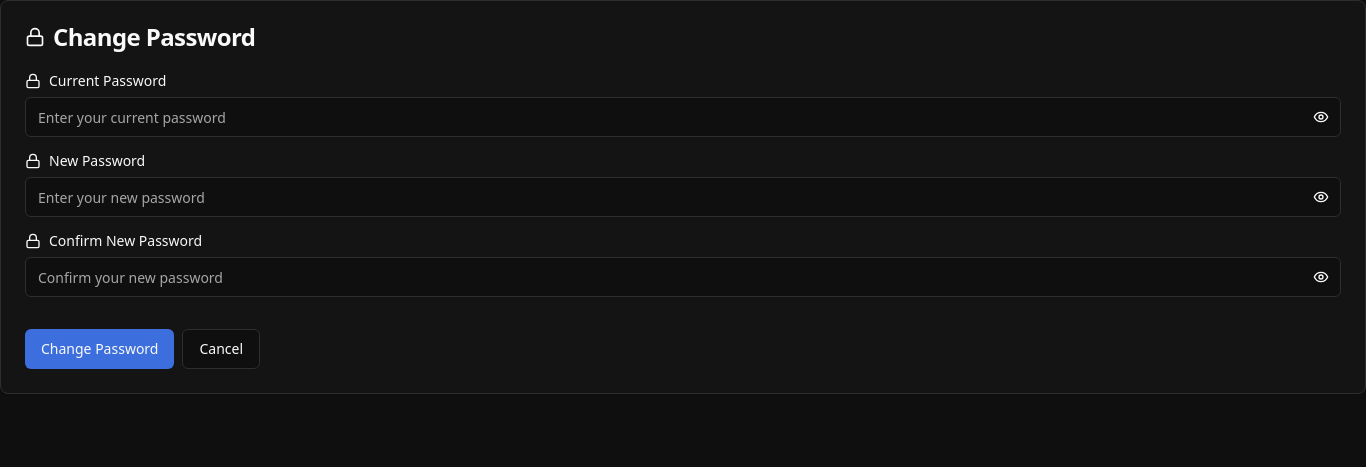
Test case: PasswordChangeForm › should validate new password length
The image size is (1366, 467).
Type "currentpass" into the password field labelled "Current Password" at (683, 117), box x1=25 y1=97 x2=1341 y2=137
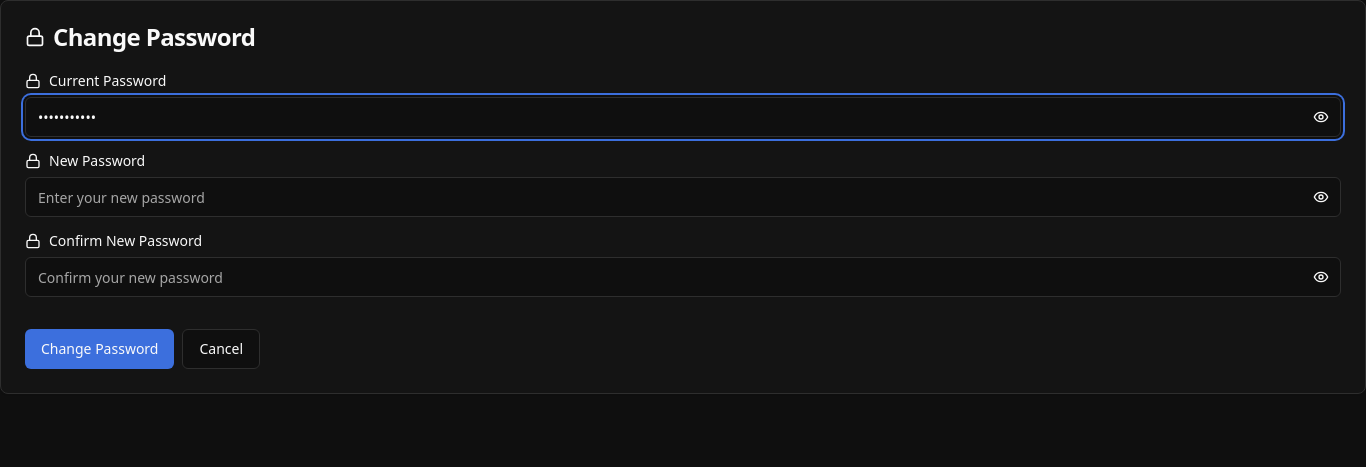
Type "short" into the password field labelled "New Password" at (683, 197), box x1=25 y1=177 x2=1341 y2=217
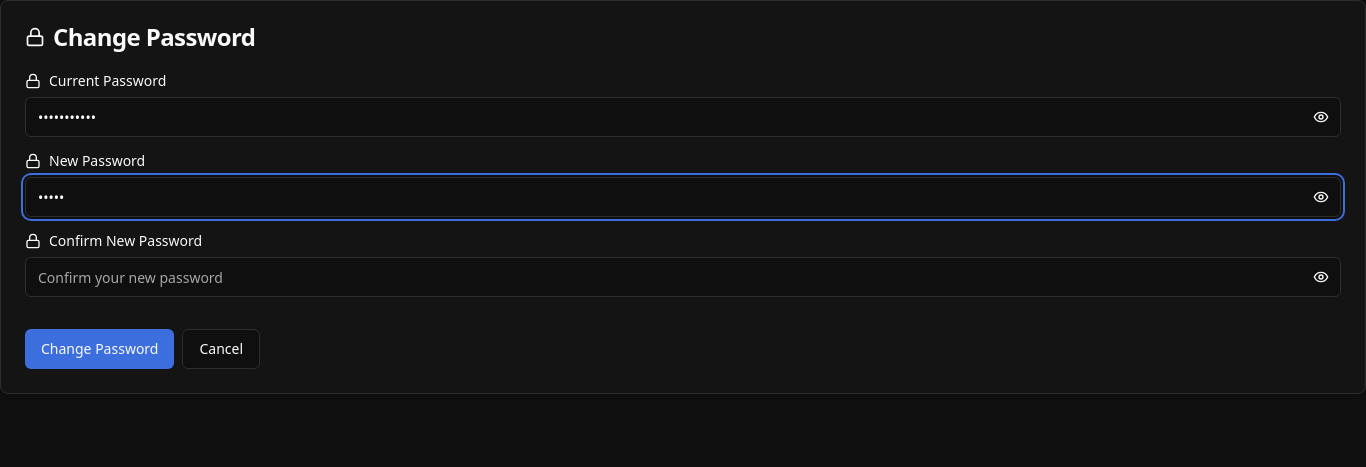
Click the button "Change Password" at (100, 349), box x1=25 y1=329 x2=174 y2=369
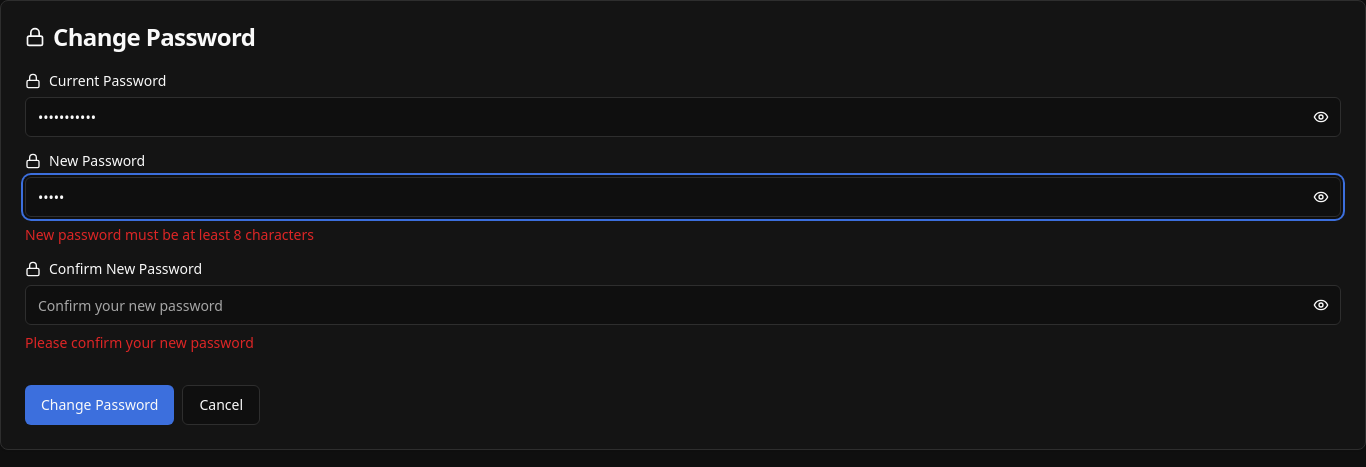
Result: the text "New password must be at least 8 characters" is shown at x1=25 y1=225 x2=314 y2=244
